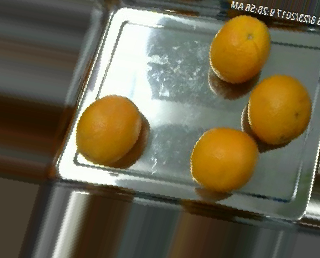Orange: (76, 93, 142, 165), (247, 75, 313, 145), (208, 15, 273, 84), (189, 127, 258, 191)
